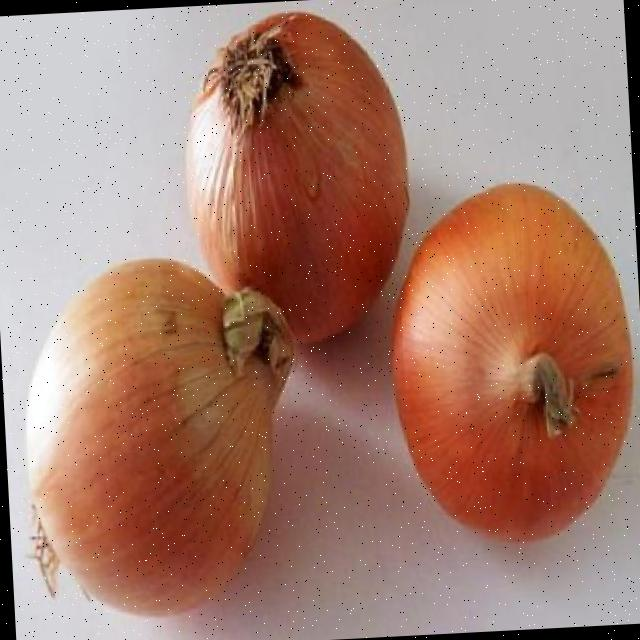Onion: (26, 260, 293, 615), (395, 184, 634, 541), (186, 12, 409, 342)
